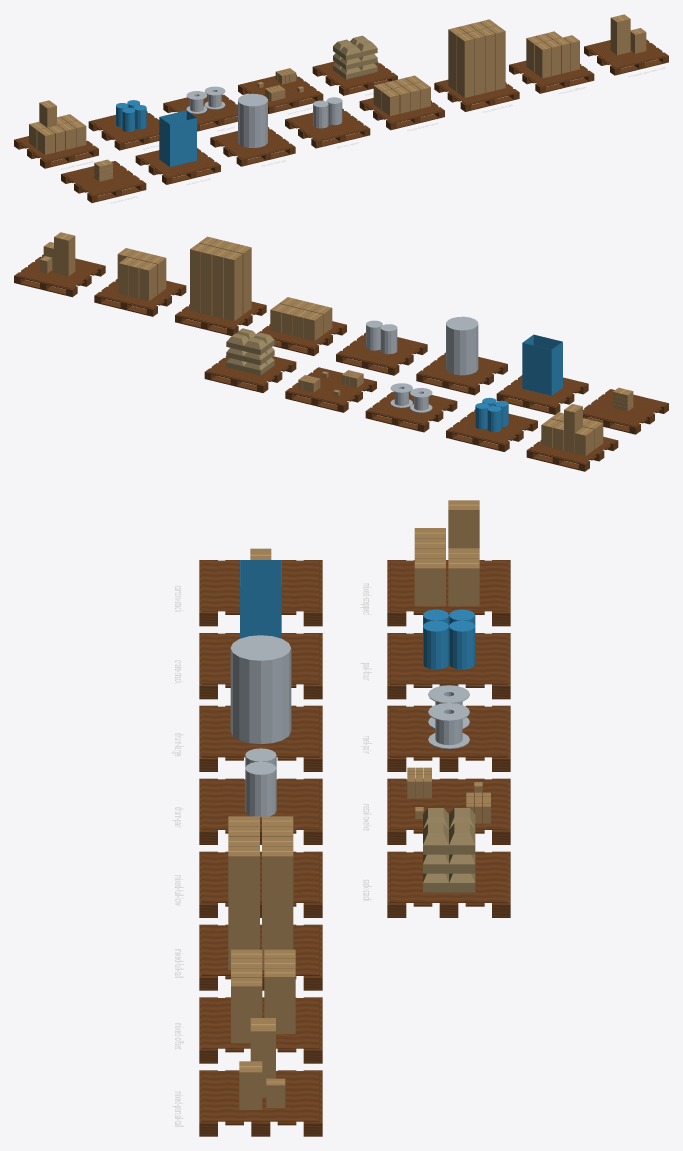
3 renders of one model, top to bottom at view 1: azimuth 30°, elevation 25°; view 2: azimuth 150°, elevation 25°; view 3: azimuth 270°, elevation 25°, orthographic. The views are drawn at different scales.
Visible parts, largest first — view 1: fill-0-package-body.003, cargo-support-deck.019, cargo-support-deck.022, cargo-support-deck.030, cargo-support-deck.026, cargo-support-deck.021, cargo-support-deck.028, cargo-support-deck.020, cargo-support-deck.029, cargo-support-deck.031, cargo-support-deck.025, fill-1-package-carton.015 (+33 smaller); view 2: fill-0-package-body.003, cargo-support-deck.019, cargo-support-deck.030, cargo-support-deck.022, cargo-support-deck.028, cargo-support-deck.026, cargo-support-deck.029, cargo-support-deck.021, cargo-support-deck.020, cargo-support-deck.031, cargo-support-deck.025, fill-3-package-carton.015 (+24 smaller); view 3: fill-0-package-body.003, cargo-support-deck.029, cargo-support-deck.026, cargo-support-deck.028, cargo-support-deck.022, cargo-support-deck.019, cargo-support-deck.031, cargo-support-deck.021, cargo-support-deck.030, cargo-support-deck.027, cargo-support-deck.025, cargo-support-deck.020 (+19 smaller).
Part boxes in pixels (bbox=[...]): fill-0-package-body.003: bbox=[238, 101, 267, 147]; cargo-support-deck.019: bbox=[63, 161, 143, 195]; cargo-support-deck.022: bbox=[287, 109, 367, 140]; cargo-support-deck.030: bbox=[240, 76, 320, 106]; cargo-support-deck.026: bbox=[586, 40, 666, 67]; cargo-support-deck.021: bbox=[213, 128, 292, 159]; cargo-support-deck.028: bbox=[91, 112, 159, 142]; cargo-support-deck.020: bbox=[138, 149, 218, 177]; cargo-support-deck.029: bbox=[166, 94, 237, 124]; cargo-support-deck.031: bbox=[315, 61, 395, 88]; cargo-support-deck.025: bbox=[511, 61, 591, 86]; fill-1-package-carton.015: bbox=[456, 33, 474, 69]; fill-0-package-body.003: bbox=[446, 324, 478, 375]; cargo-support-deck.019: bbox=[583, 389, 666, 426]; cargo-support-deck.030: bbox=[288, 367, 374, 404]; cargo-support-deck.022: bbox=[338, 334, 424, 367]; cargo-support-deck.028: bbox=[448, 411, 535, 443]; cargo-support-deck.026: bbox=[16, 255, 103, 288]; cargo-support-deck.029: bbox=[368, 391, 454, 424]; cargo-support-deck.021: bbox=[419, 354, 505, 387]; cargo-support-deck.020: bbox=[499, 376, 585, 406]; cargo-support-deck.031: bbox=[207, 356, 293, 384]; cargo-support-deck.025: bbox=[97, 280, 183, 308]; fill-3-package-carton.015: bbox=[223, 251, 242, 290]; fill-0-package-body.003: bbox=[230, 648, 291, 743]; cargo-support-deck.029: bbox=[390, 706, 507, 757]; cargo-support-deck.026: bbox=[202, 1071, 319, 1121]; cargo-support-deck.028: bbox=[390, 633, 507, 684]; cargo-support-deck.022: bbox=[202, 779, 319, 829]; cargo-support-deck.019: bbox=[202, 560, 319, 611]; cargo-support-deck.031: bbox=[390, 852, 507, 902]; cargo-support-deck.021: bbox=[202, 706, 319, 757]; cargo-support-deck.030: bbox=[390, 779, 507, 829]; cargo-support-deck.027: bbox=[390, 560, 507, 611]; cargo-support-deck.025: bbox=[202, 998, 319, 1048]; cargo-support-deck.020: bbox=[202, 633, 319, 684].
Bounding box in the file's own units: 12.75 × 1.35 × 3.24.
6 materials, 2 textured.
